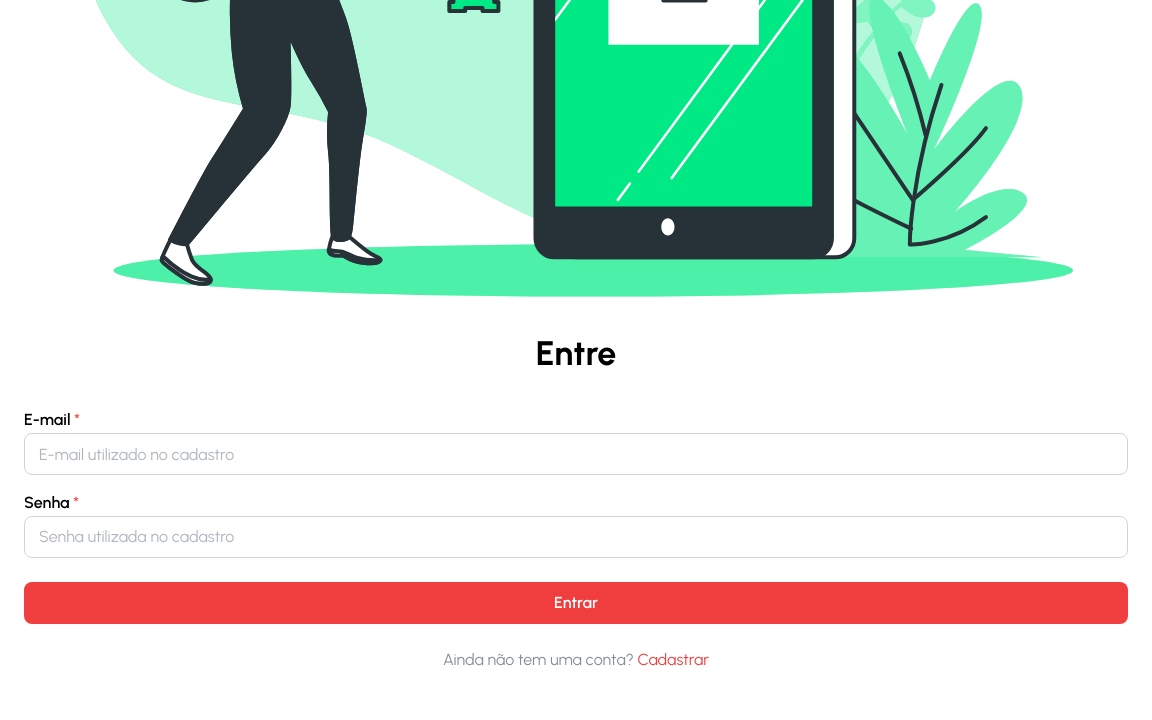
Test: shows notification when server responds with error
(page scrolled)
Type "not-allowed@email.com" into the field labelled "E-mail *" at (576, 454), box [24,433,1128,475]
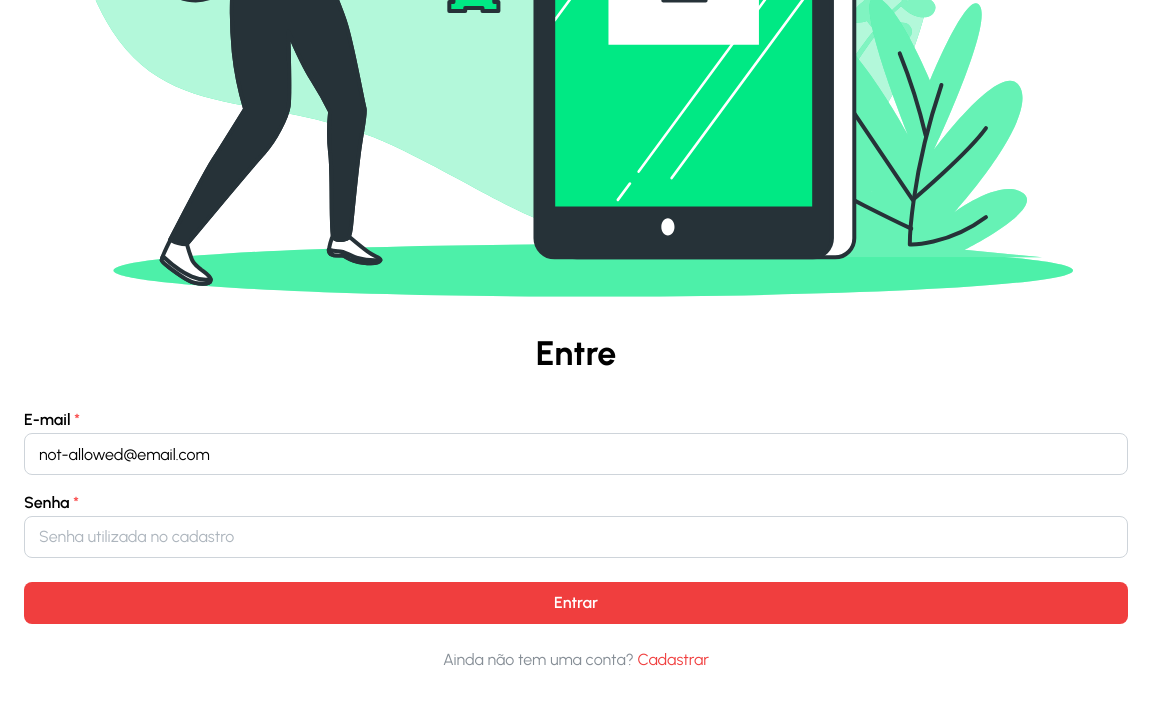
Type "password123" into the password field labelled "Senha *" at (576, 537), box [24,516,1128,558]
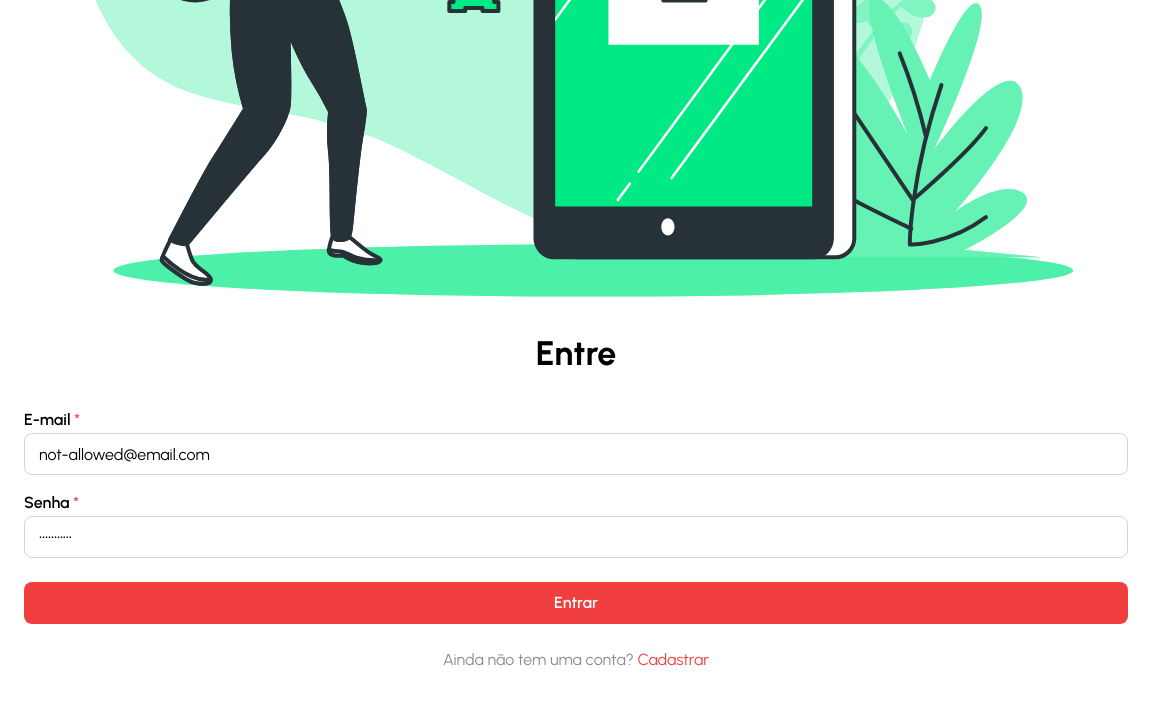
Submit the form from the button "Entrar", box [24,582,1128,624]
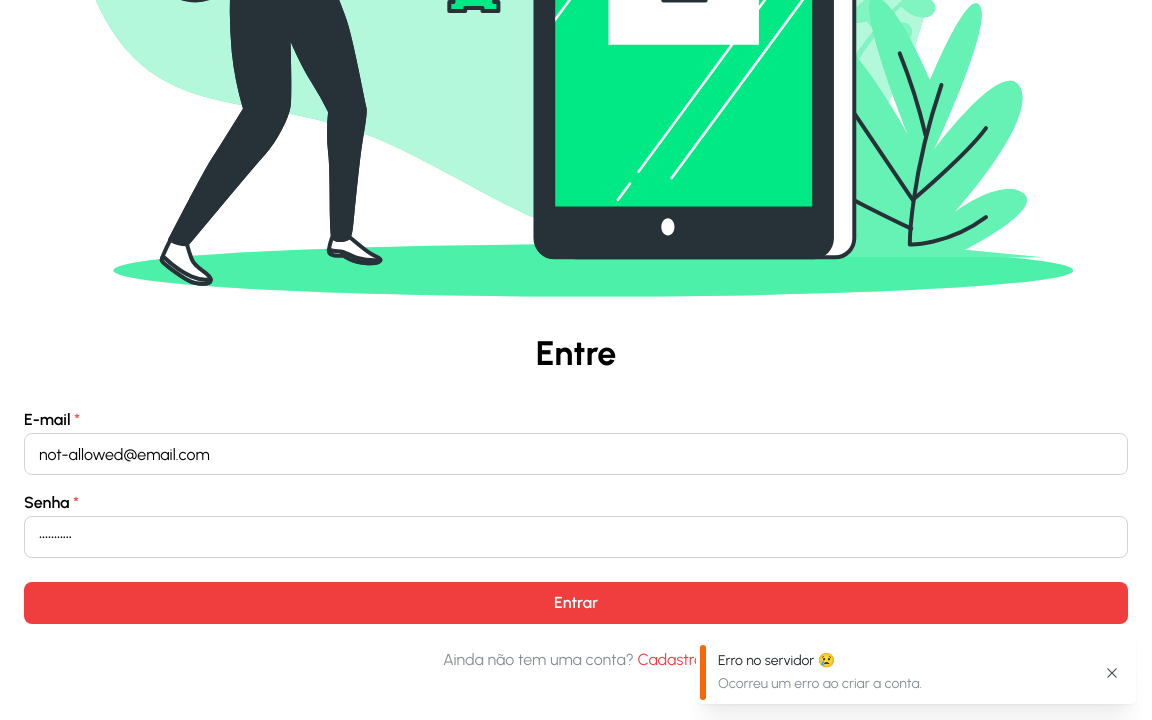
Check: the text "Erro no servidor 😢" is shown, box [718,652,835,669]
